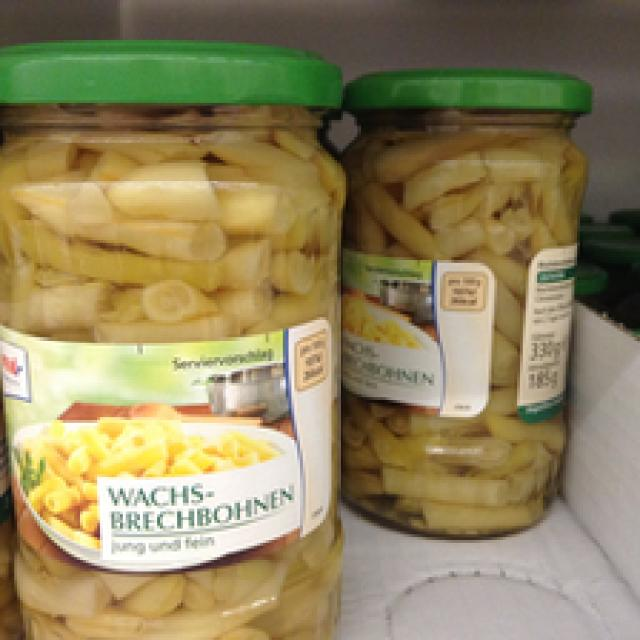groceries: (0, 40, 343, 637), (349, 66, 577, 540)
